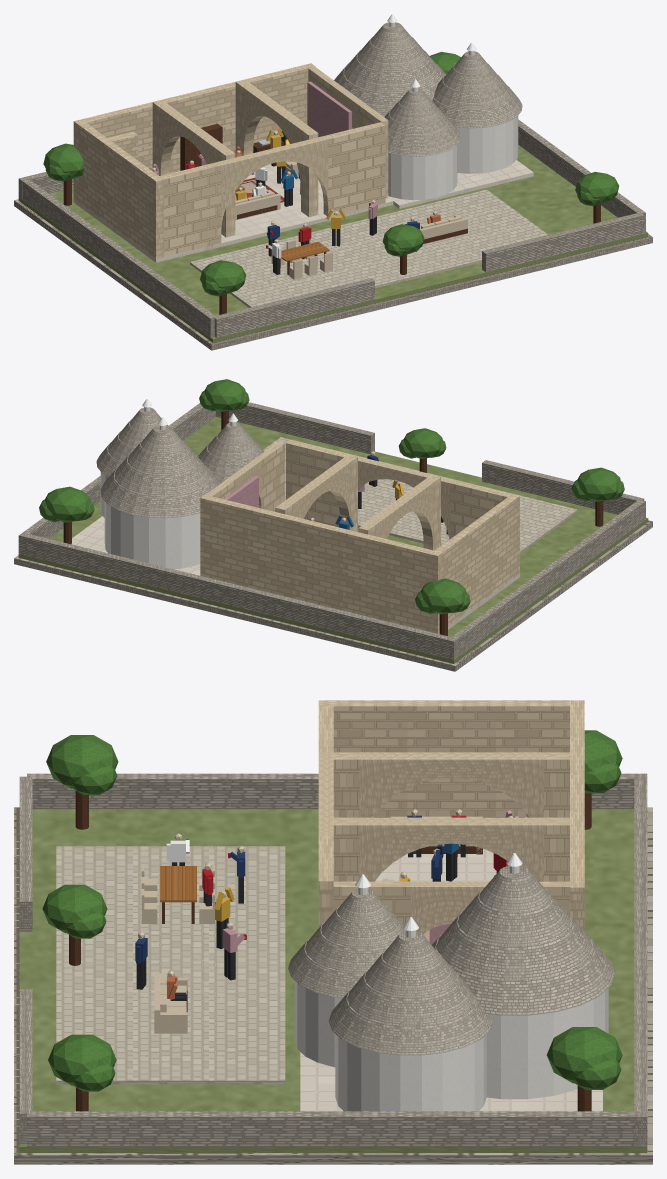
Rendered from villa5_harmony.glb.
The picture shows the model from 3 angles, top to bottom: view 1: azimuth 30°, elevation 25°; view 2: azimuth 150°, elevation 25°; view 3: azimuth 270°, elevation 25°; orthographic projection. The views are drawn at different scales.
Parts seen in each view (by area): view 1: Harmony_Patio, Base_Terrain, Front_Tufo_Arch, Hall_WallN, Hall_WallW, Base_Trim, Wall_DryW, Wall_DryS2, Inner_Tufo_Arch2, Wall_DryS1, Inner_Tufo_Arch1, Trullo_Side_Drum (+28 smaller); view 2: Hall_WallN, Wall_DryN, Base_Terrain, Front_Tufo_Arch, Hall_WallW, Base_Trim, Wall_DryW, Trullo_Main_Drum, Harmony_Patio, Wall_DryS2, Inner_Tufo_Arch1, Wall_DryS1 (+19 smaller); view 3: Base_Terrain, Harmony_Patio, Wall_DryE, Hall_WallW, Base_Trim, Inner_Tufo_Arch1, Inner_Tufo_Arch2, Wall_DryW, Trullo_East_Drum, Trullo_Main_Drum, Trullo_Main_Cone1, Trullo_Main_Cone0 (+34 smaller).
Boxes of the visible parts, left/top/right/bottom form: Harmony_Patio: left=190, top=189, right=548, bottom=306; Base_Terrain: left=18, top=145, right=648, bottom=342; Front_Tufo_Arch: left=159, top=122, right=385, bottom=256; Hall_WallN: left=73, top=63, right=315, bottom=201; Hall_WallW: left=73, top=121, right=163, bottom=258; Base_Trim: left=14, top=199, right=652, bottom=350; Wall_DryW: left=21, top=178, right=215, bottom=337; Wall_DryS2: left=482, top=212, right=644, bottom=272; Inner_Tufo_Arch2: left=235, top=79, right=318, bottom=216; Wall_DryS1: left=213, top=278, right=374, bottom=337; Inner_Tufo_Arch1: left=152, top=100, right=235, bottom=237; Trullo_Side_Drum: left=388, top=146, right=457, bottom=200; Hall_WallN: left=200, top=495, right=442, bottom=633; Wall_DryN: left=18, top=534, right=457, bottom=659; Base_Terrain: left=18, top=416, right=648, bottom=663; Front_Tufo_Arch: left=286, top=440, right=511, bottom=539; Hall_WallW: left=430, top=494, right=519, bottom=633; Base_Trim: left=14, top=520, right=652, bottom=671; Wall_DryW: left=450, top=500, right=645, bottom=656; Trullo_Main_Drum: left=104, top=501, right=200, bottom=569; Harmony_Patio: left=263, top=437, right=576, bottom=551; Wall_DryS2: left=216, top=402, right=374, bottom=454; Inner_Tufo_Arch1: left=358, top=474, right=440, bottom=550; Wall_DryS1: left=482, top=460, right=644, bottom=514; Base_Terrain: left=19, top=809, right=647, bottom=1152; Harmony_Patio: left=56, top=846, right=285, bottom=1080; Wall_DryE: left=27, top=1111, right=639, bottom=1146; Hall_WallW: left=318, top=700, right=569, bottom=817; Base_Trim: left=14, top=807, right=652, bottom=1164; Inner_Tufo_Arch1: left=333, top=752, right=569, bottom=817; Inner_Tufo_Arch2: left=333, top=817, right=569, bottom=881; Wall_DryW: left=27, top=773, right=639, bottom=809; Trullo_East_Drum: left=335, top=1034, right=486, bottom=1111; Trullo_Main_Drum: left=486, top=988, right=608, bottom=1099; Trullo_Main_Cone1: left=436, top=910, right=592, bottom=979; Trullo_Main_Cone0: left=432, top=932, right=615, bottom=1015.
Bounding box in the file's own units: 22.3 × 6.81 × 17.3.
Materials: 18 (18 with a texture image).
